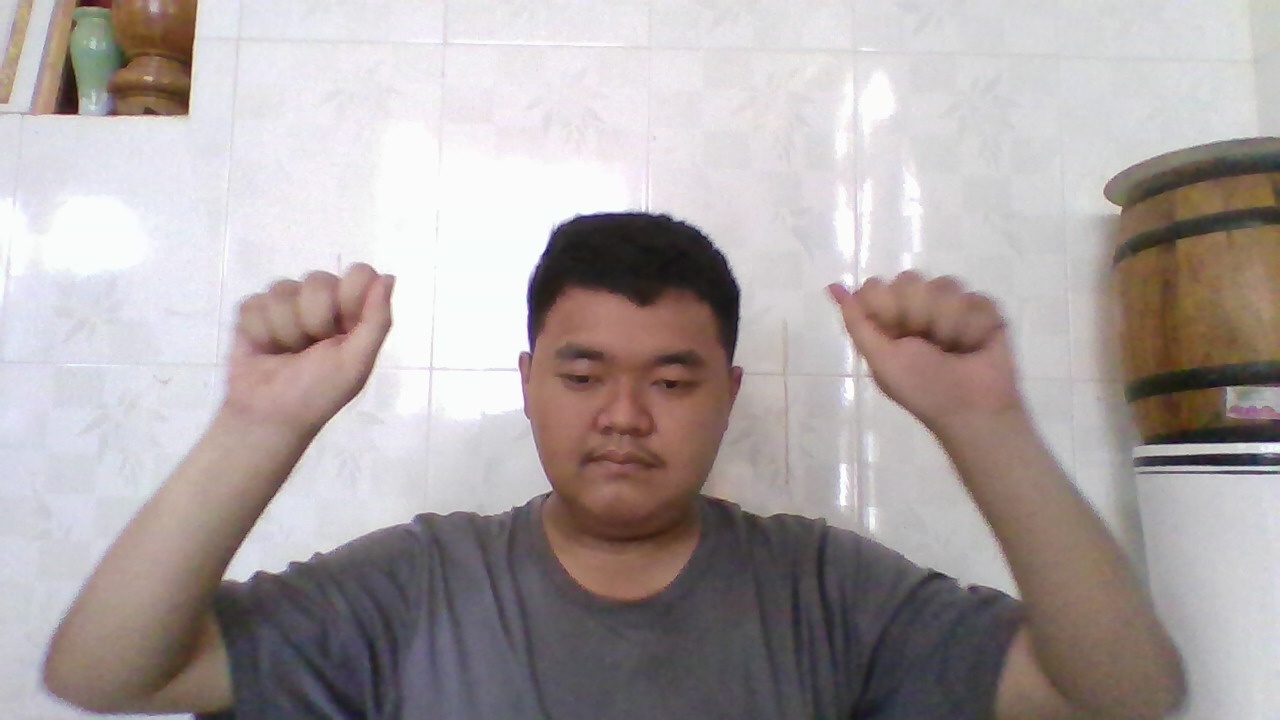A: (820, 261, 1002, 425), (238, 253, 403, 425)
